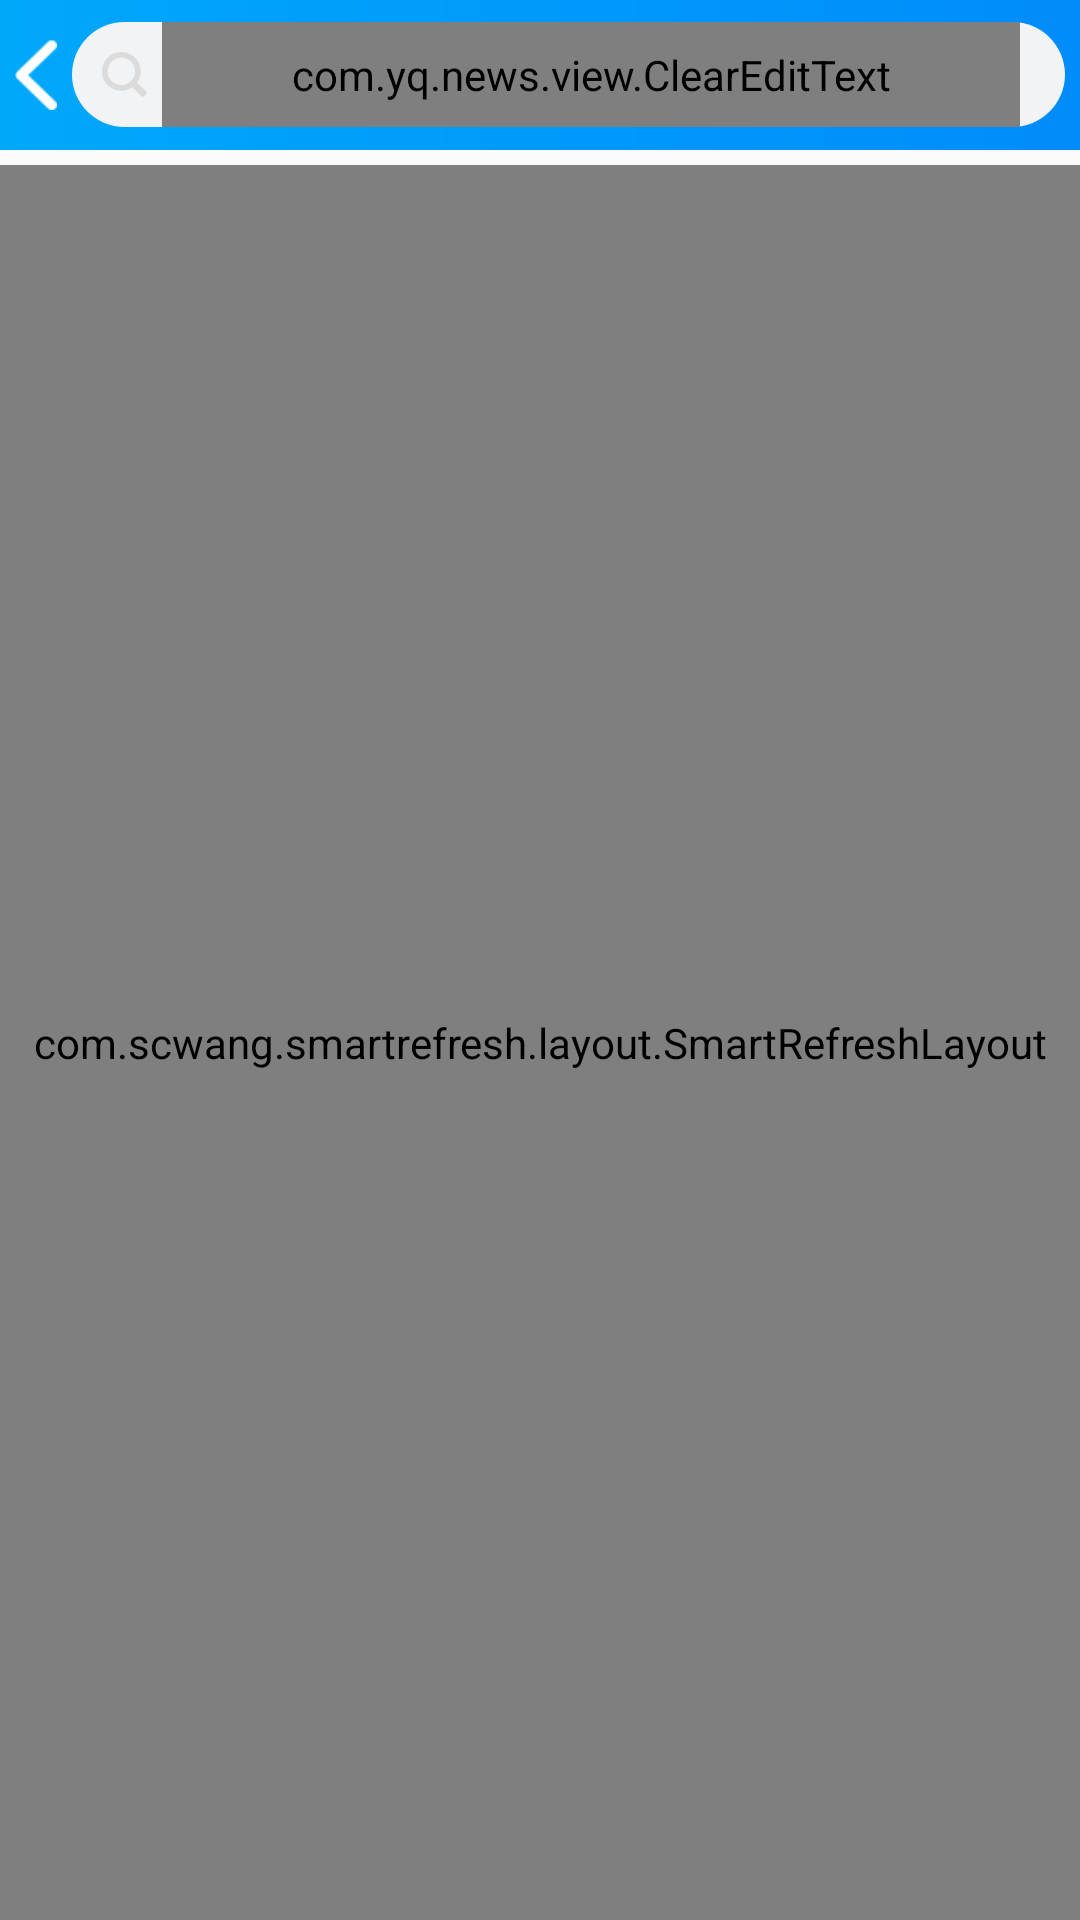

Screen size 1080px×1920px. Icon name, then its center in pixels as (x,y):
back: (36,75)
sousuo: (124,74)
